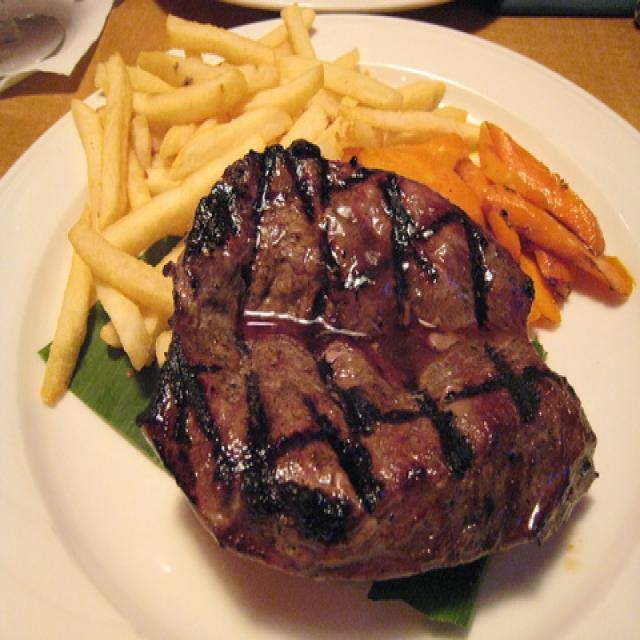French fries: (84, 25, 462, 171)
Steak: (159, 155, 613, 596)
